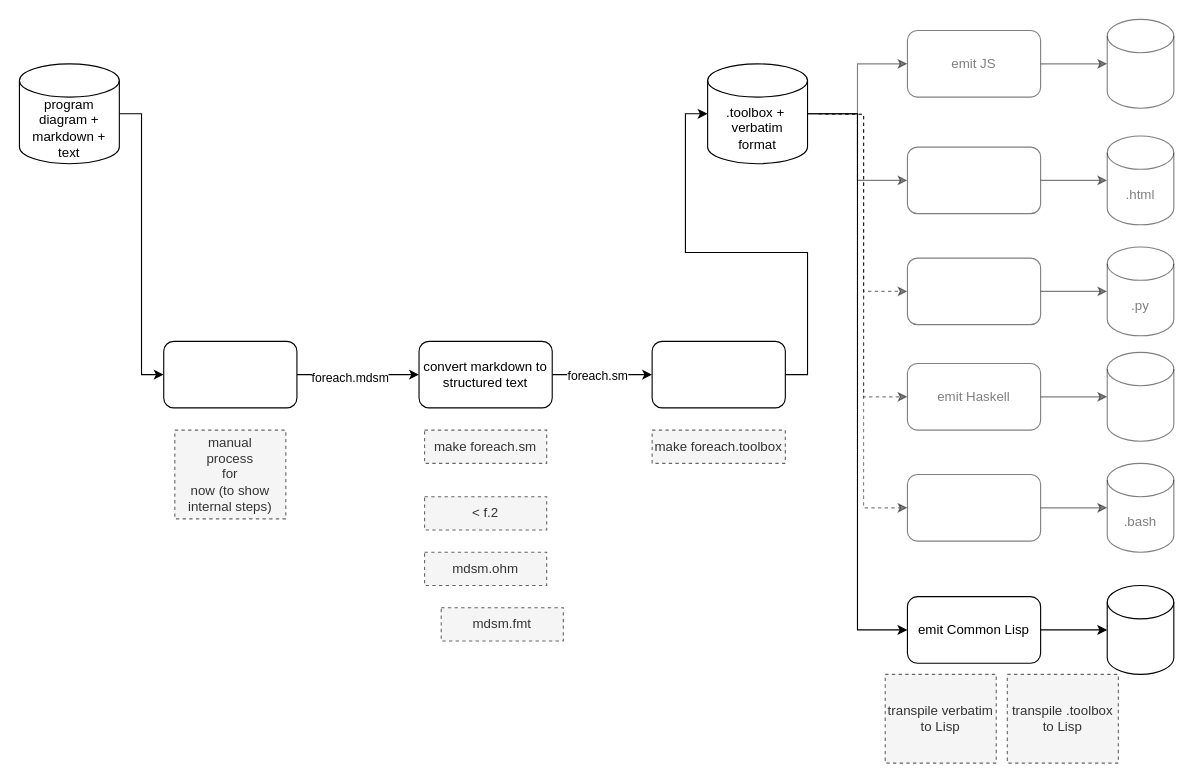
This 1193x783 diagram has some shape labels left out. The shapes that lost their labels are listed below. From the top down, each one's centre as x and y in pixels, then its label:
point (1140, 63): .js
point (973, 180): emit HTML+JS
point (973, 291): emit Python
point (230, 374): convert state diagram to markdown text
point (718, 374): convert .sm to .toolbox common format
point (1140, 396): .hs
point (973, 507): emit Bash
point (1140, 629): .lisp
